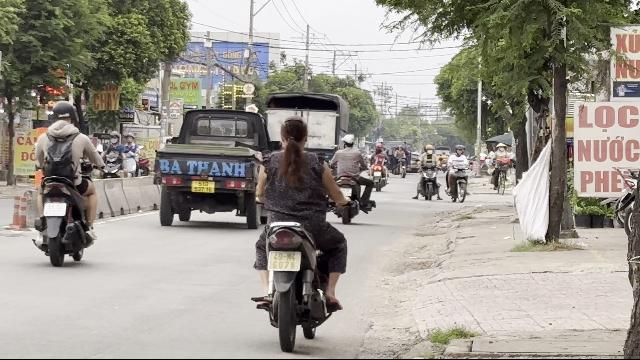helmet: (49, 99, 77, 127)
licenseplate: (268, 252, 300, 270), (44, 202, 66, 218)
motorcyclist: (245, 113, 351, 345), (28, 98, 100, 266)
nohelmet: (278, 116, 308, 150)
